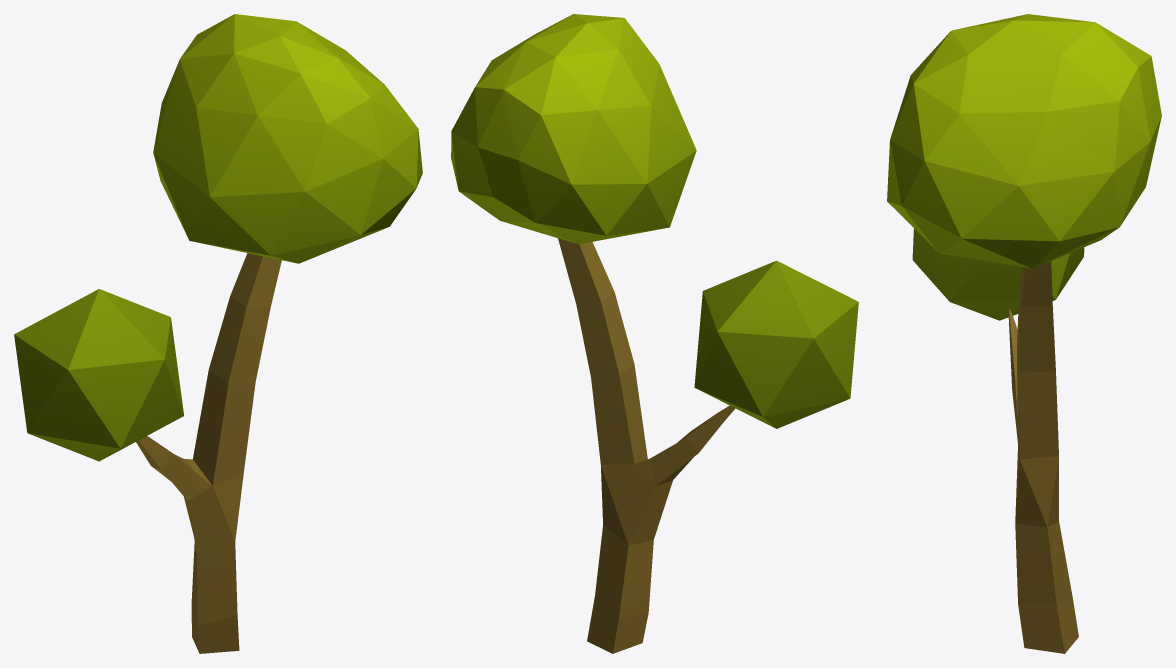
File: tree_3.glb
3 renders of one model, left to right at view 1: azimuth 30°, elevation 25°; view 2: azimuth 150°, elevation 25°; view 3: azimuth 270°, elevation 25°, orthographic. The views are drawn at different scales.
Visible parts, largest first — view 1: tree_3; view 2: tree_3; view 3: tree_3.
Boxes of the visible parts, box(x1,y1,x2,y2) form: tree_3: box(14, 14, 422, 653); tree_3: box(451, 14, 858, 653); tree_3: box(887, 14, 1161, 653).
Bounding box in the file's own units: 1.47 × 2.26 × 0.8727.
Materials: 1 (1 with a texture image).
